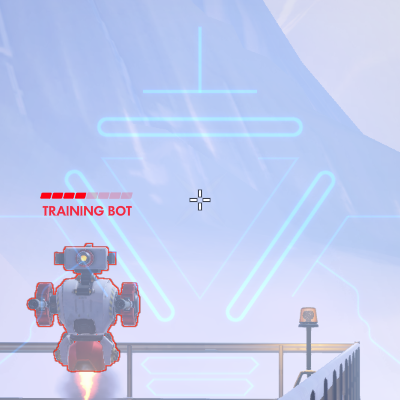hpbar: (40, 192, 133, 199)
